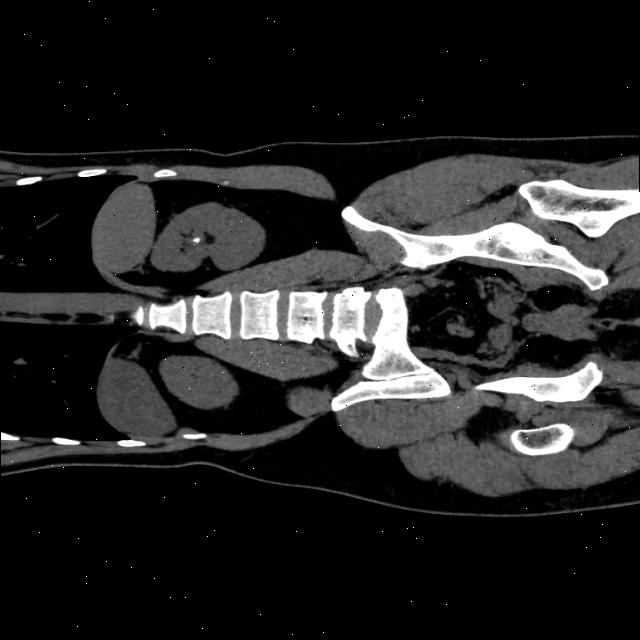kidneystone: (192, 236, 199, 242)
